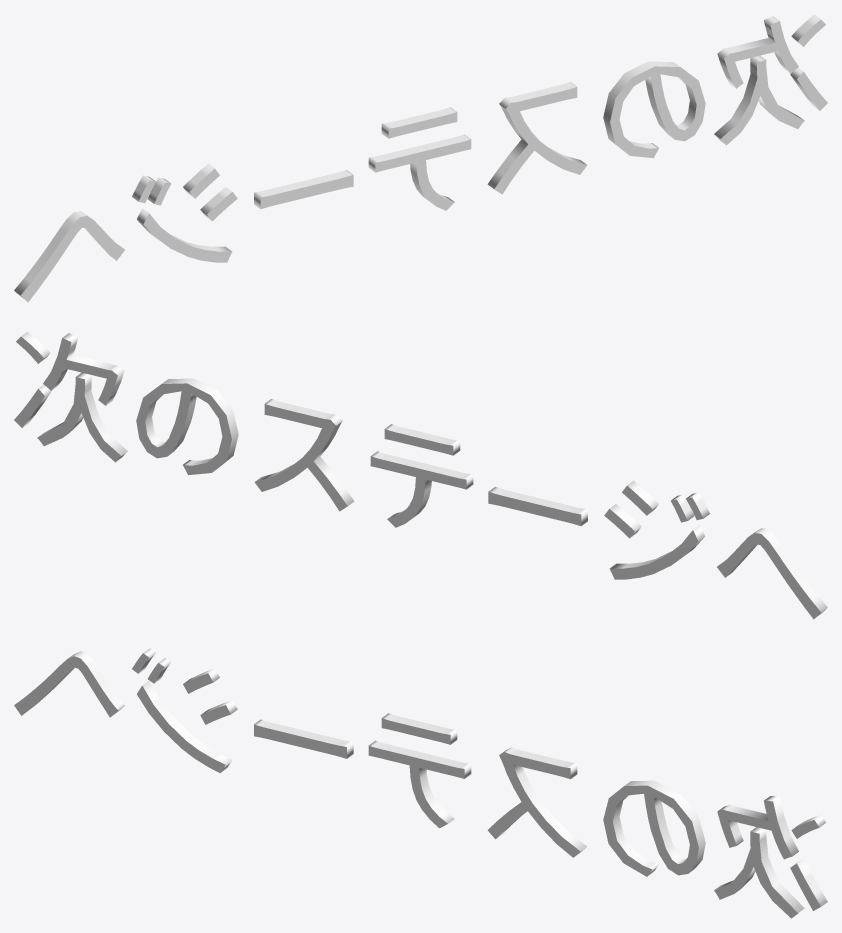
File: Next.obj
3 views of the same model, one above another, from view 1: azimuth 30°, elevation 25°; view 2: azimuth 150°, elevation 25°; view 3: azimuth 330°, elevation 25° (orthographic).
Visible parts, largest first — view 1: テキスト; view 2: テキスト; view 3: テキスト.
Part boxes in pixels (x1=…): テキスト: x1=14, y1=14, x2=827, y2=302; テキスト: x1=14, y1=331, x2=827, y2=619; テキスト: x1=14, y1=648, x2=827, y2=918.
Size of the model in its own units: 6.91 by 0.924 by 0.1.
Materials: 1 (1 with a texture image).
